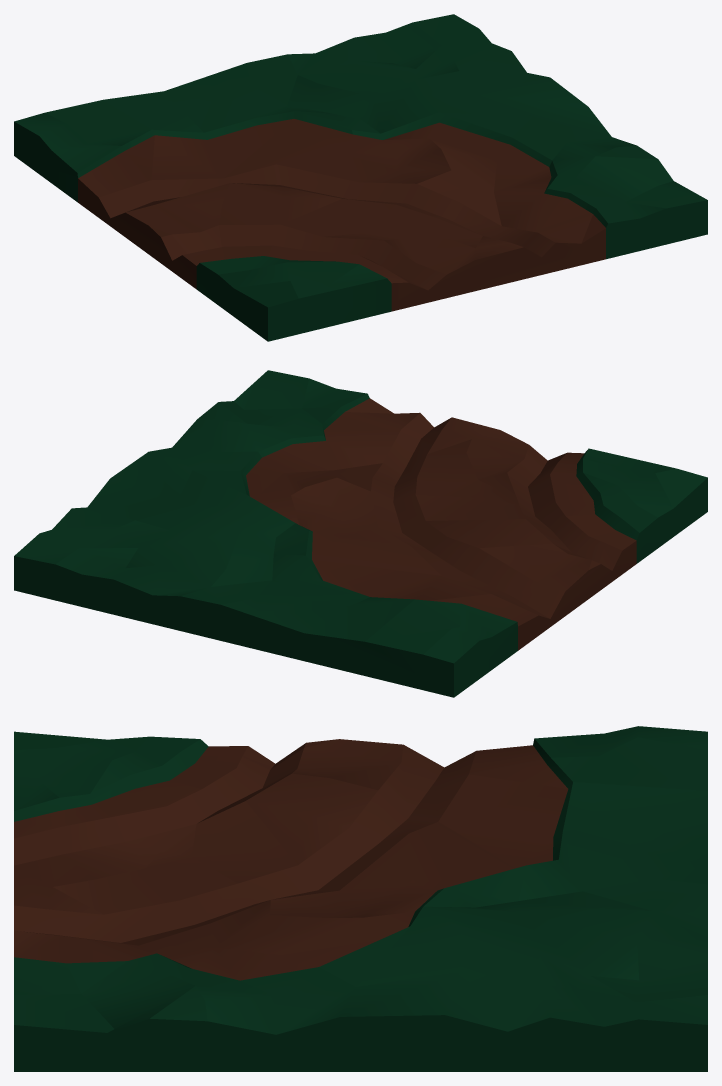
File: Ground_Road_Turn_RU.fbx
3 renders of one model, top to bottom at view 1: azimuth 30°, elevation 25°; view 2: azimuth 150°, elevation 25°; view 3: azimuth 270°, elevation 25°, orthographic. The views are drawn at different scales.
Visible parts, largest first — view 1: Ground_Road_Turn_RU; view 2: Ground_Road_Turn_RU; view 3: Ground_Road_Turn_RU.
Part boxes in pixels (box(x1,y1,x2,y2)): Ground_Road_Turn_RU: box(14, 14, 707, 341); Ground_Road_Turn_RU: box(14, 370, 707, 697); Ground_Road_Turn_RU: box(14, 726, 707, 1071).
Size of the model in its own units: 147 by 15.12 by 147.
